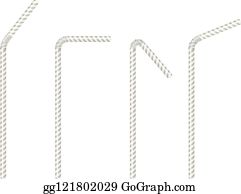Drinking Straw: (186, 17, 241, 179), (52, 34, 112, 180), (1, 1, 39, 181), (128, 37, 174, 180)
